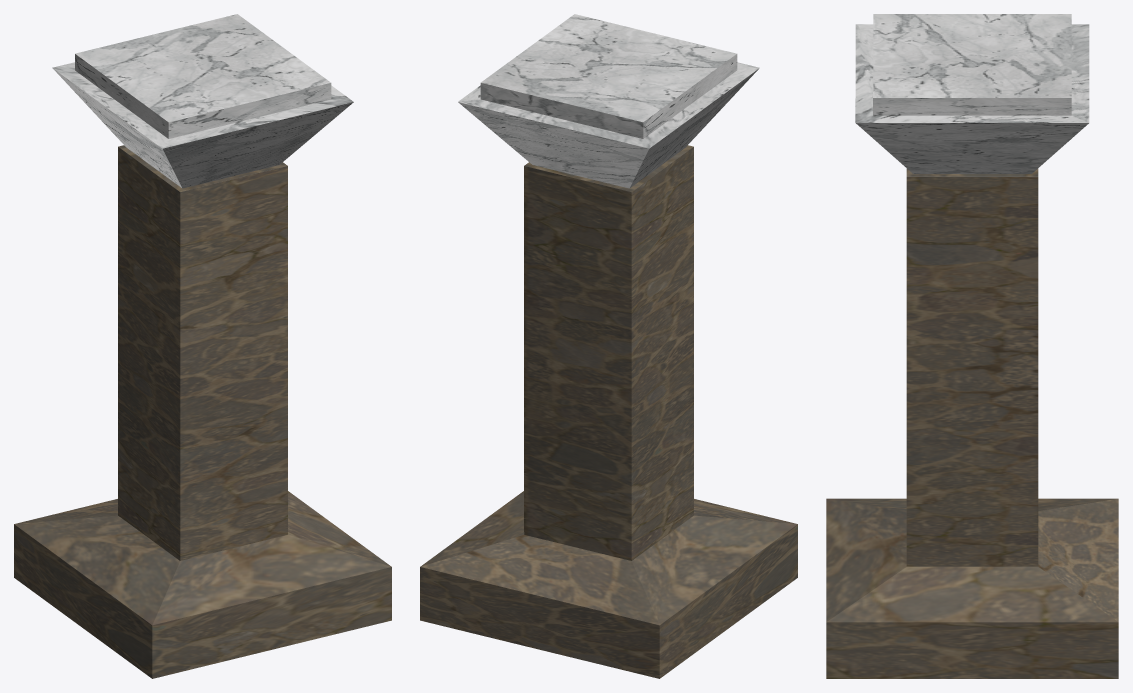
File: Pedestal.fbx
3 views of the same model, side by side, from view 1: azimuth 30°, elevation 25°; view 2: azimuth 150°, elevation 25°; view 3: azimuth 270°, elevation 25° (orthographic). The views are drawn at different scales.
Parts seen in each view (by area): view 1: Cube; view 2: Cube; view 3: Cube.
Part boxes in pixels (x1=…): Cube: x1=14, y1=14, x2=391, y2=678; Cube: x1=420, y1=14, x2=797, y2=678; Cube: x1=826, y1=14, x2=1118, y2=678.
Size of the model in its own units: 200 by 423 by 200.
1 material, 1 textured.
